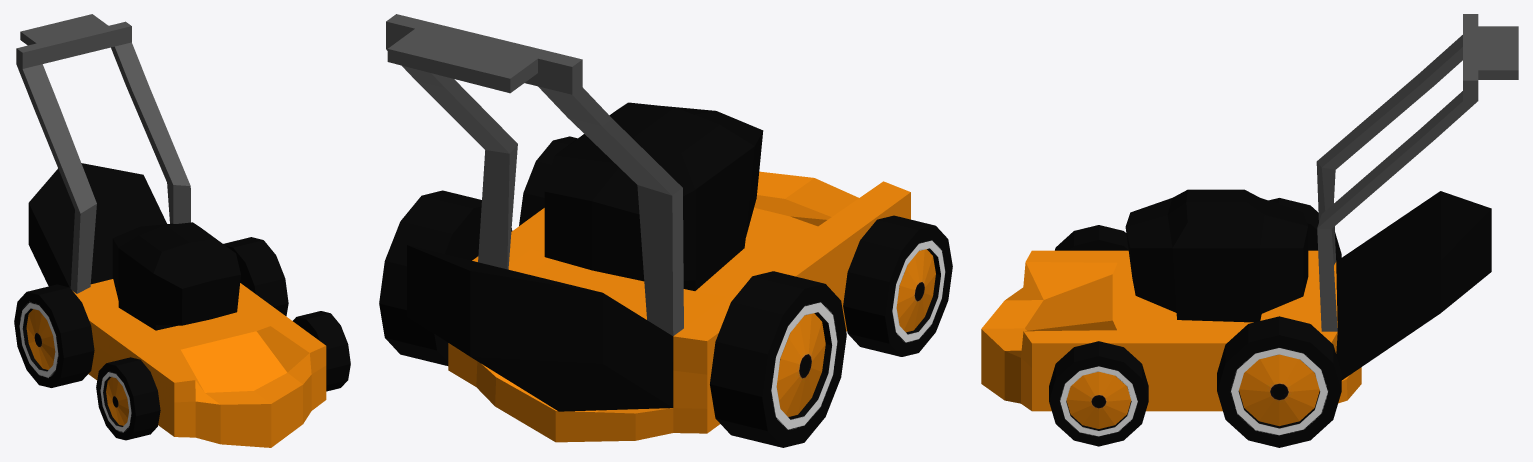
Rendered from CortadoradepastoModeloNaranjaVibration.glb.
The picture shows the model from 3 angles, left to right: view 1: azimuth 30°, elevation 25°; view 2: azimuth 150°, elevation 25°; view 3: azimuth 270°, elevation 25°; orthographic projection. The views are drawn at different scales.
Visible parts, largest first — view 1: Maquina, Rueda delantera.006, Rueda delantera; view 2: Maquina, Rueda delantera.006, Rueda delantera; view 3: Maquina, Rueda delantera.006, Rueda delantera.
Boxes of the visible parts, box(x1,y1,x2,y2) form: Maquina: box(16, 14, 326, 447); Rueda delantera.006: box(14, 237, 288, 387); Rueda delantera: box(96, 311, 350, 440); Maquina: box(386, 14, 910, 442); Rueda delantera.006: box(379, 190, 846, 447); Rueda delantera: box(519, 136, 952, 356); Maquina: box(981, 14, 1518, 411); Rueda delantera.006: box(1217, 198, 1341, 447); Rueda delantera: box(1049, 225, 1148, 446).
Bounding box in the file's own units: 2.98 × 3.37 × 4.89.
2 materials, 2 textured.
